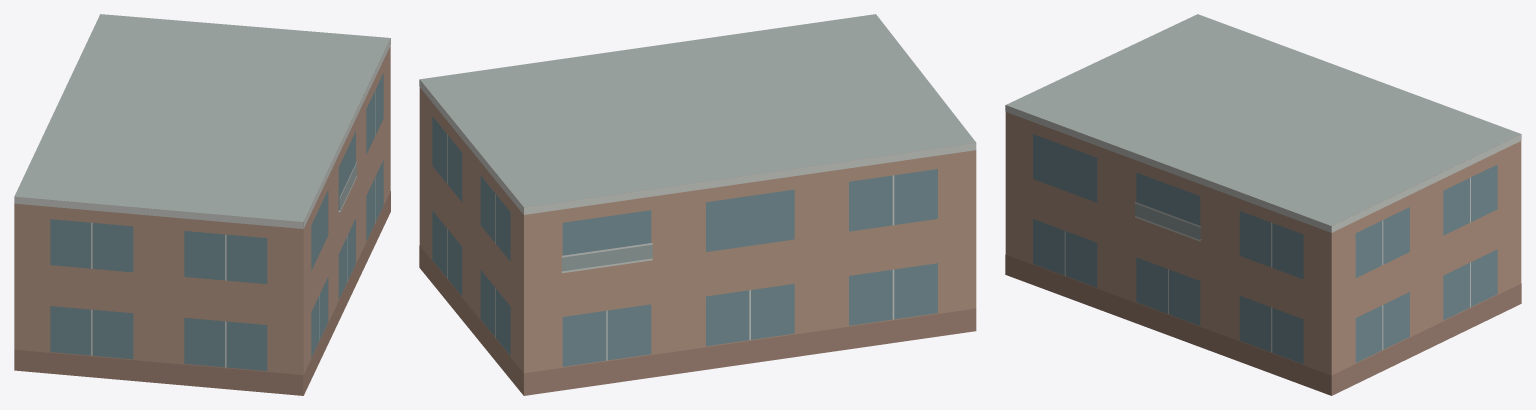
The model's file is survey-upis-32885991.glb.
3 renders of one model, left to right at view 1: azimuth 30°, elevation 25°; view 2: azimuth 150°, elevation 25°; view 3: azimuth 270°, elevation 25°, orthographic. The views are drawn at different scales.
Visible parts, largest first — view 1: survey-upis-32885991.tmp; view 2: survey-upis-32885991.tmp; view 3: survey-upis-32885991.tmp.
Part boxes in pixels (x1,y1,x2,y2): survey-upis-32885991.tmp: (14, 14, 390, 395); survey-upis-32885991.tmp: (419, 14, 976, 395); survey-upis-32885991.tmp: (1005, 14, 1521, 395).
Bounding box in the file's own units: 16.36 × 6.1 × 16.81.
